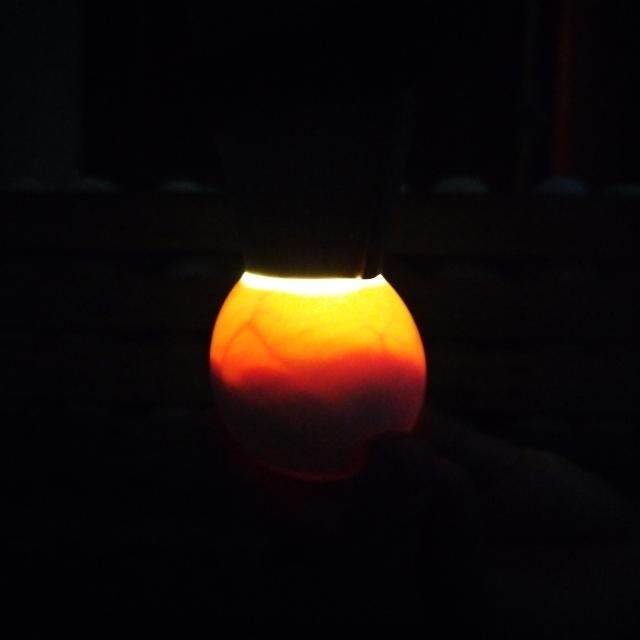Embriao: (202, 364, 418, 478)
